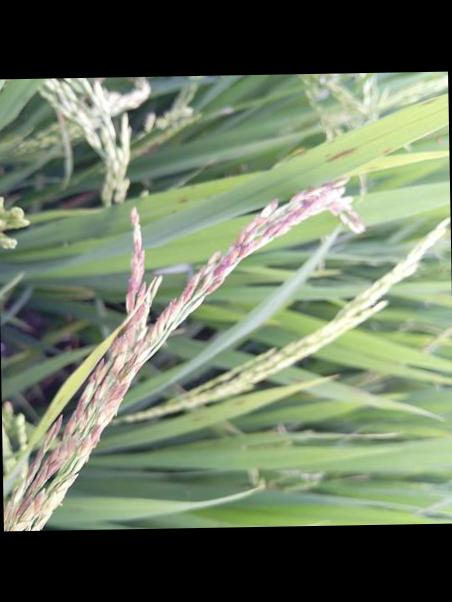Panicle Blight: (3, 177, 360, 531)
